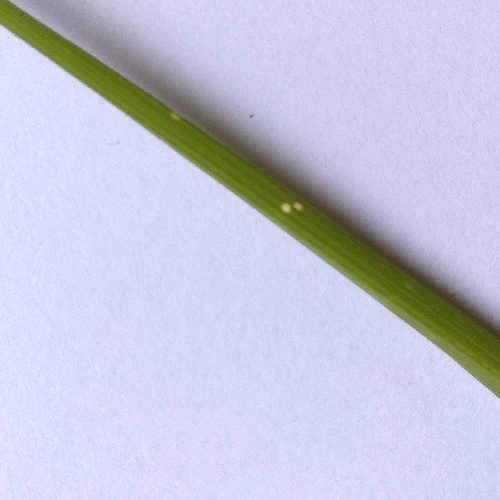Busuk Leher: (277, 188, 312, 220), (167, 101, 187, 127)
